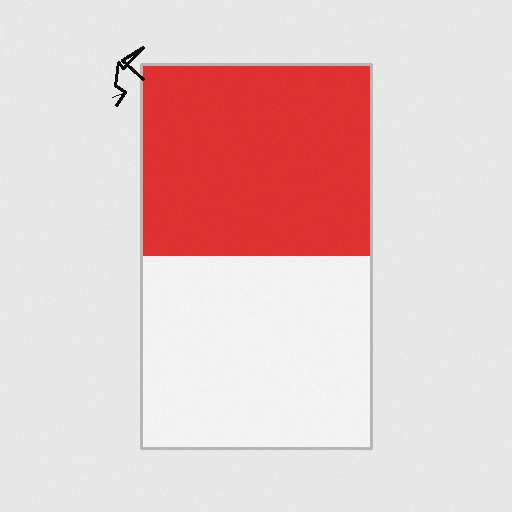crack: (108, 43, 147, 109)
